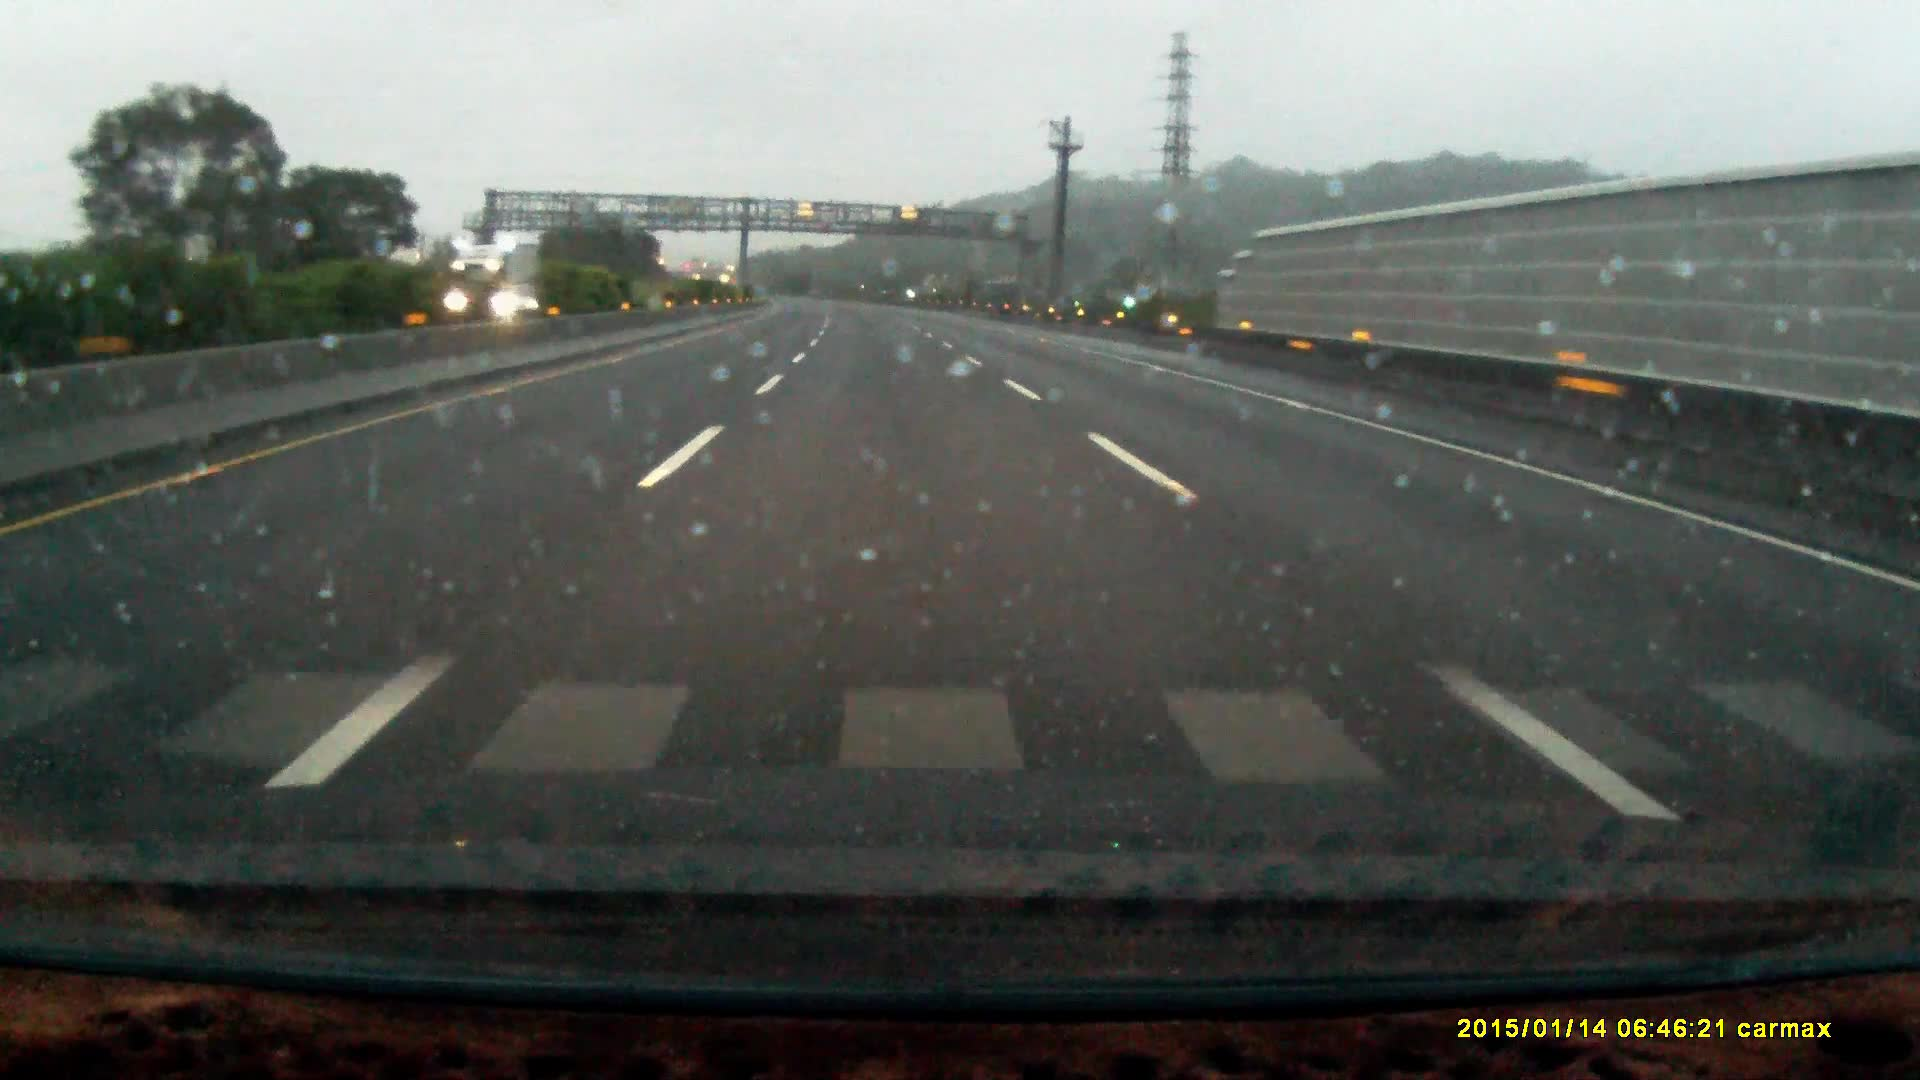vehicle: (451, 245, 546, 320), (491, 280, 568, 316)
